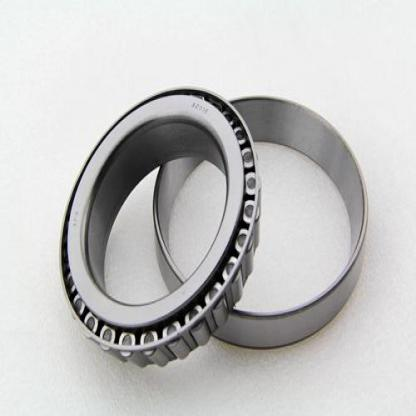FOD: (57, 80, 371, 370)
